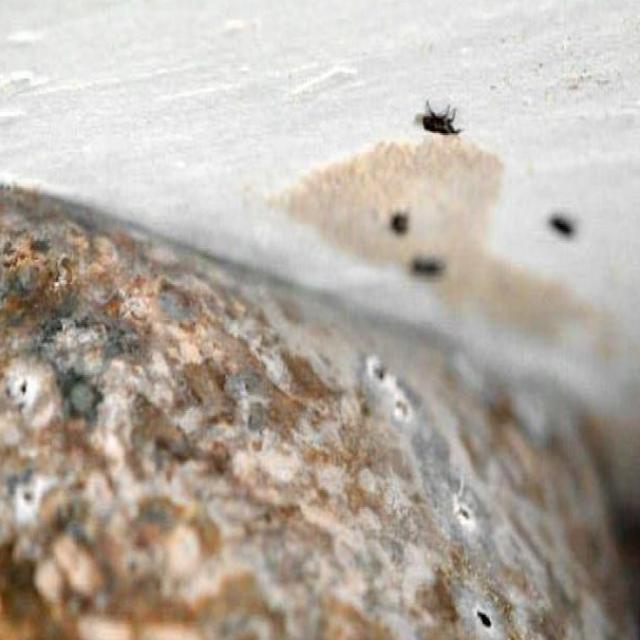ricebug: (421, 103, 462, 135), (410, 260, 444, 281), (549, 217, 577, 241), (390, 213, 410, 237)
